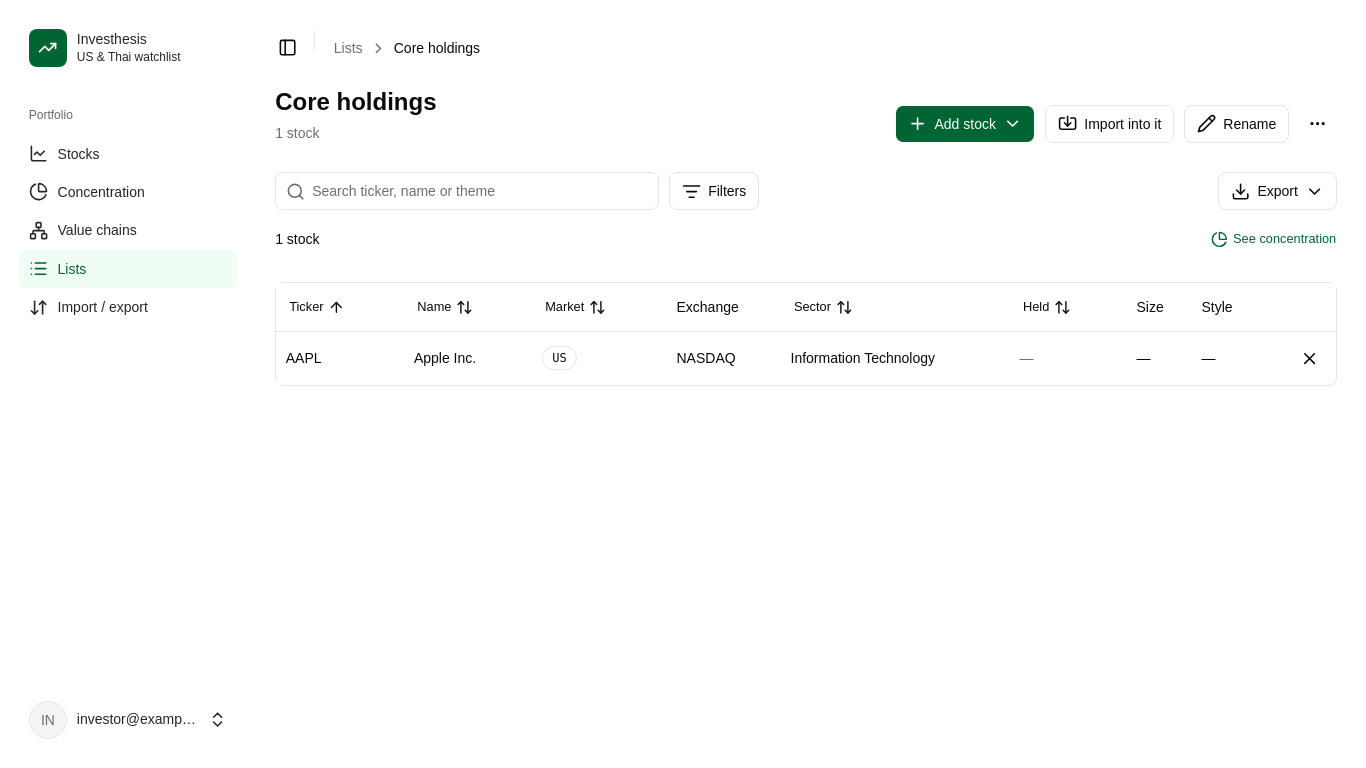
Test: list detail: add stock › TC-U-103: excludes members, filters by text and adds the chosen stock
Click the button "Add stock" at (965, 124), box x1=895 y1=105 x2=1035 y2=143
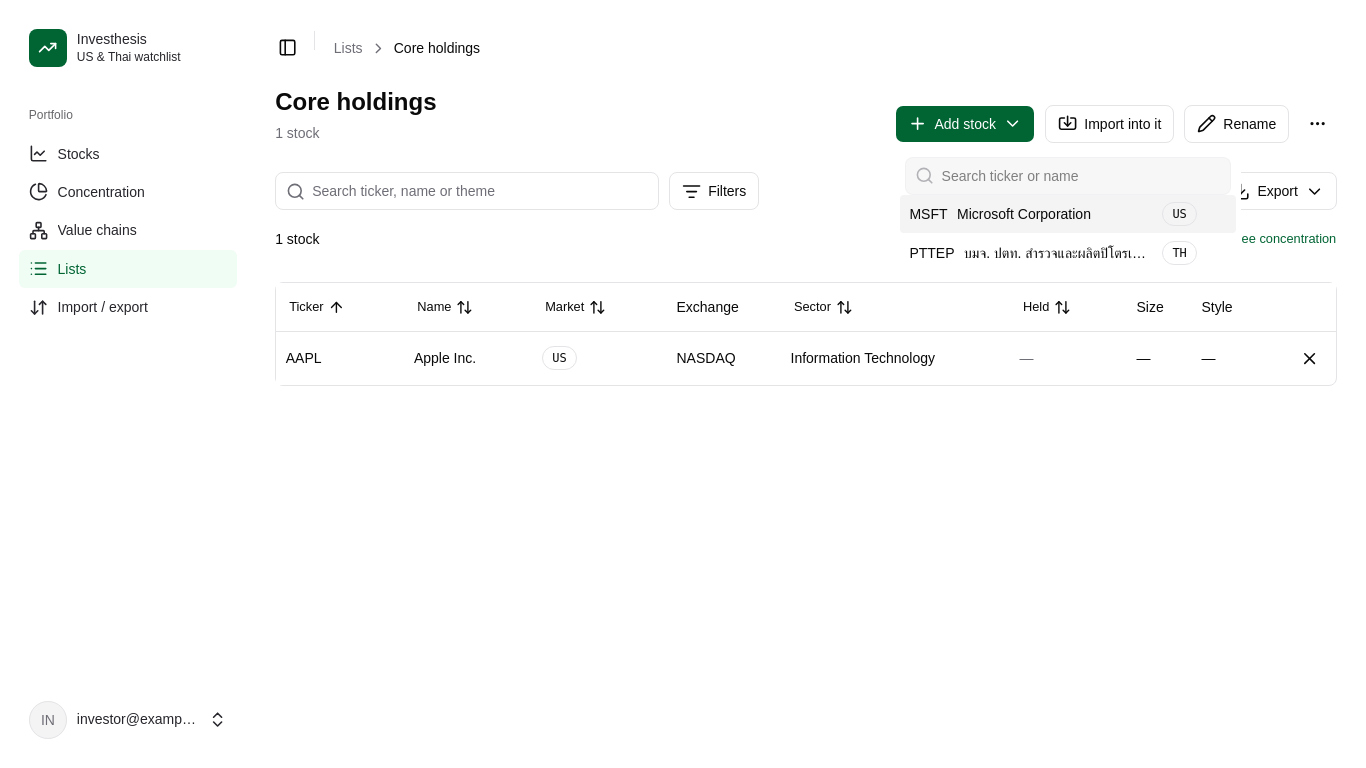
Type keys "pt"
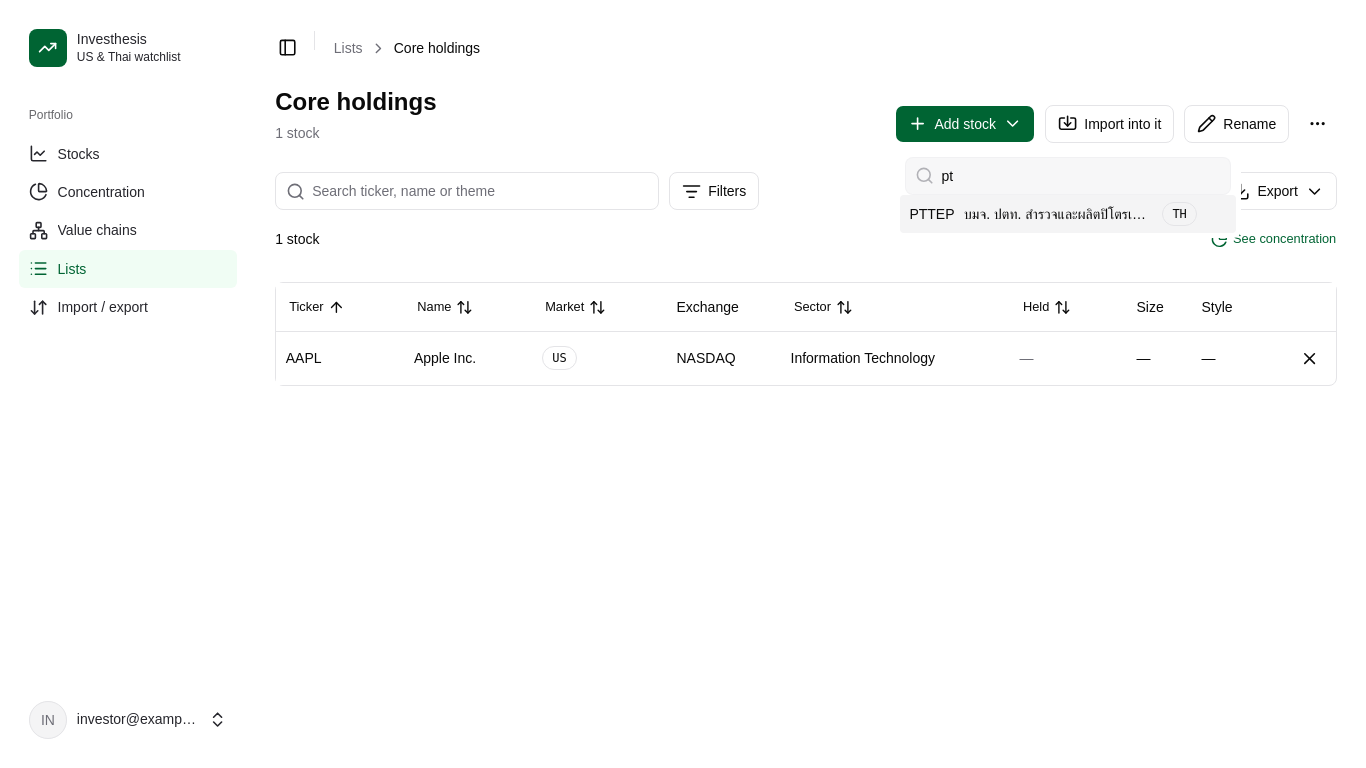
Expected: the number of options is 1
Click the option "PTTEP บมจ. ปตท. สำรวจและผลิตปิโตรเลียม TH" at (1068, 214), box x1=900 y1=195 x2=1236 y2=233
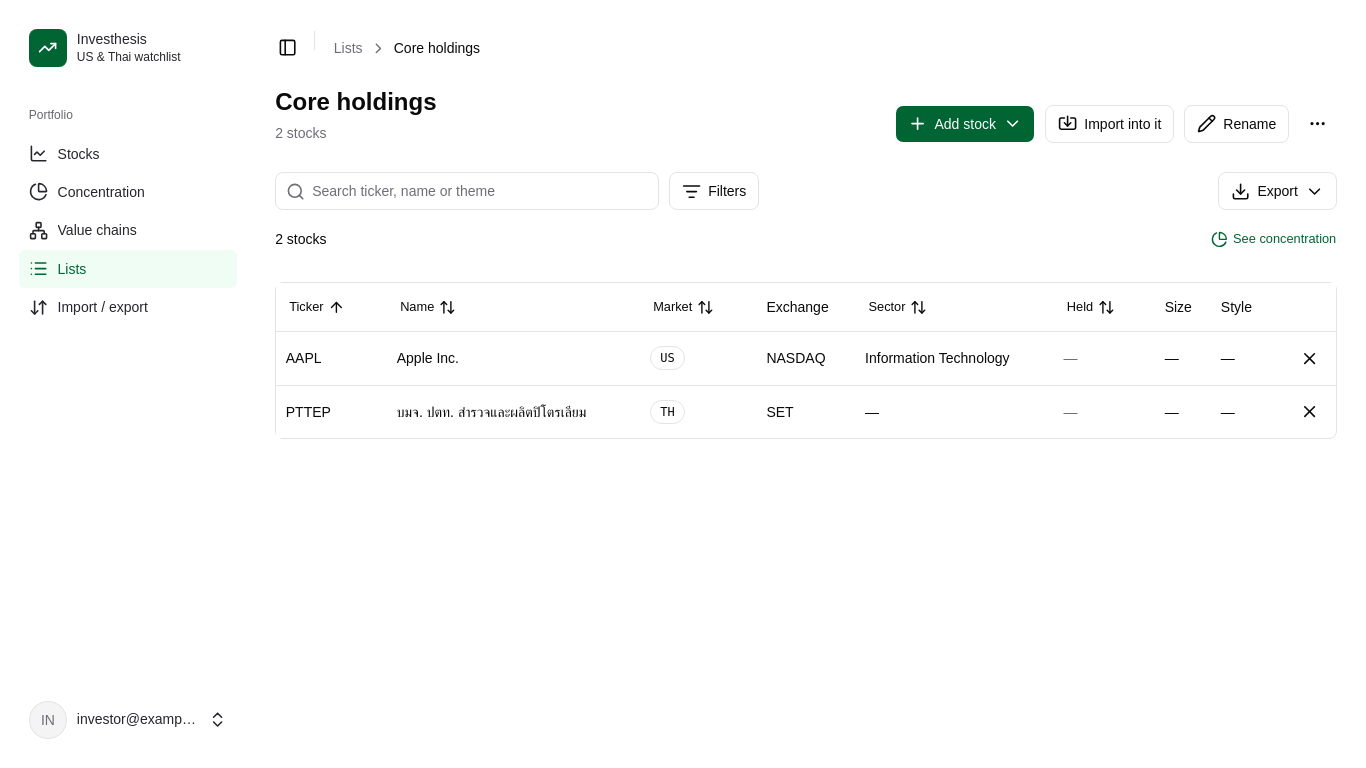
Expected: the table is shown, x1=276 y1=283 x2=1336 y2=438
Expected: the link "PTTEP" is shown, x1=286 y1=404 x2=331 y2=420
Expected: the text "2 stocks" is shown, x1=275 y1=125 x2=327 y2=141
